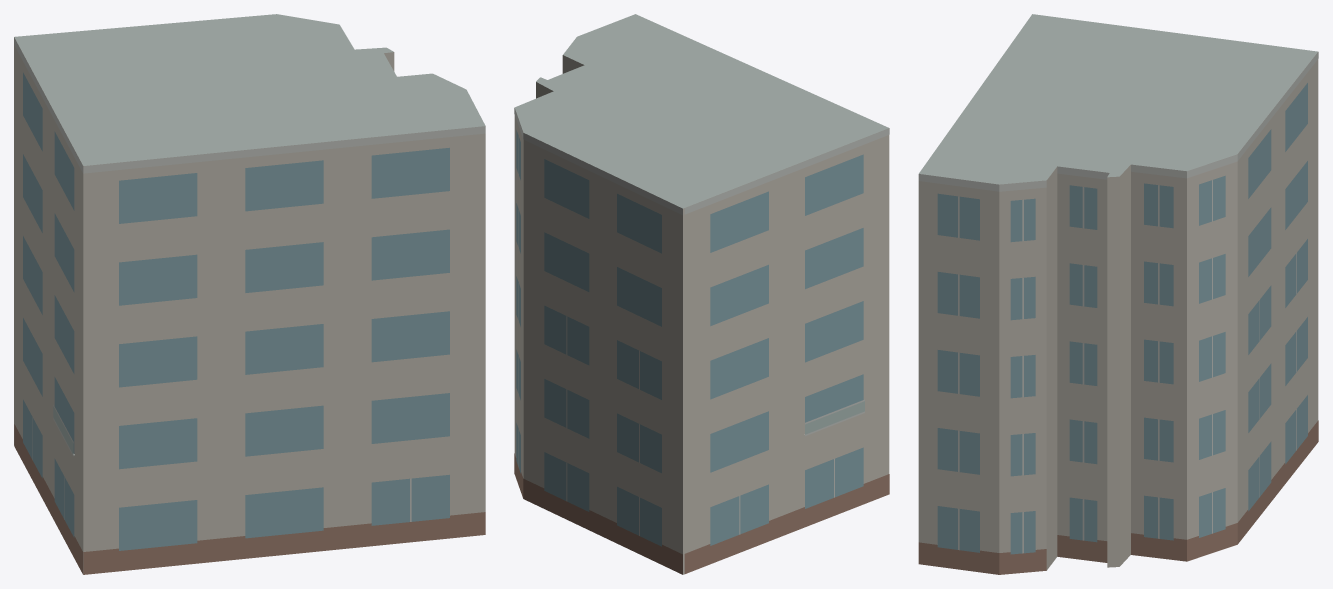
The model's file is survey-upis-32532675.glb.
3 views of the same model, side by side, from view 1: azimuth 30°, elevation 25°; view 2: azimuth 150°, elevation 25°; view 3: azimuth 270°, elevation 25° (orthographic). The views are drawn at different scales.
Parts seen in each view (by area): view 1: survey-upis-32532675.tmp; view 2: survey-upis-32532675.tmp; view 3: survey-upis-32532675.tmp.
Part boxes in pixels (box(x1,y1,x2,y2)): survey-upis-32532675.tmp: box(14, 14, 485, 574); survey-upis-32532675.tmp: box(514, 14, 889, 574); survey-upis-32532675.tmp: box(918, 14, 1318, 574).
Size of the model in its own units: 12.43 by 13.25 by 12.31.
